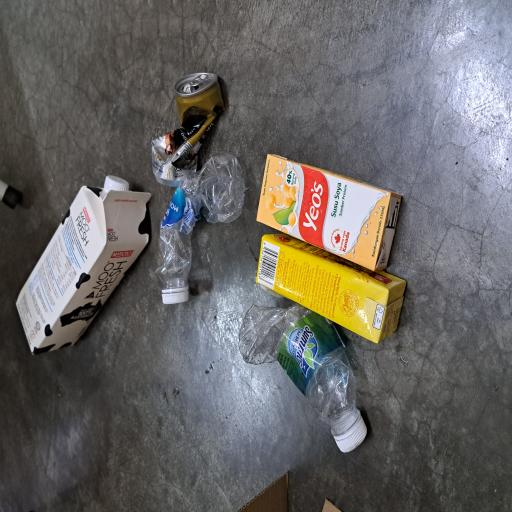can: (243, 202, 330, 301)
cardboard: (0, 305, 33, 461)
drink carton: (118, 19, 246, 203), (179, 340, 269, 512), (125, 340, 209, 512)
plastic bottle: (61, 319, 157, 478), (166, 206, 271, 328)
plastic bottle cap: (44, 447, 72, 490), (238, 139, 253, 173), (155, 215, 168, 253)
pop tab: (319, 252, 329, 278)
